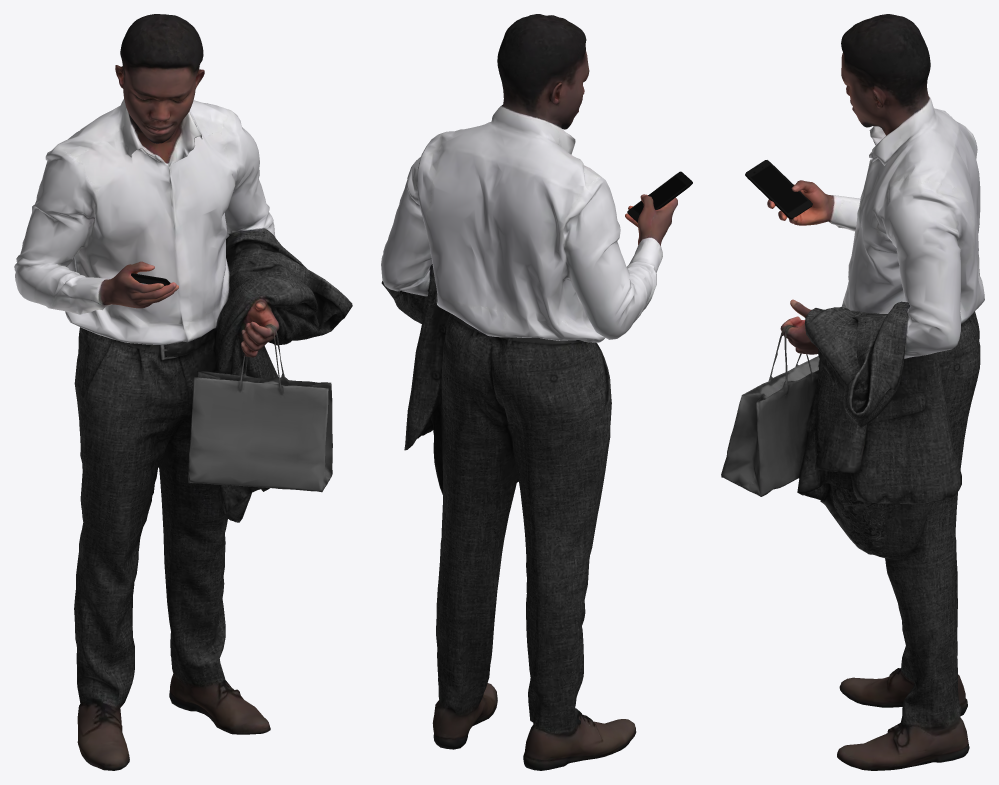
Rendered from man2.compressed.glb.
The picture shows the model from 3 angles, left to right: view 1: azimuth 30°, elevation 25°; view 2: azimuth 150°, elevation 25°; view 3: azimuth 270°, elevation 25°; orthographic projection. The views are drawn at different scales.
Visible parts, largest first — view 1: Object_4; view 2: Object_4, Object_6; view 3: Object_4, Object_6.
Part boxes in pixels (x1=…): Object_4: x1=14, y1=14, x2=352, y2=770; Object_4: x1=381, y1=14, x2=677, y2=770; Object_6: x1=627, y1=171, x2=692, y2=222; Object_4: x1=721, y1=14, x2=984, y2=770; Object_6: x1=745, y1=160, x2=812, y2=219.
Size of the model in its own units: 0.7384 by 1.74 by 0.5871.
2 materials, 2 textured.
